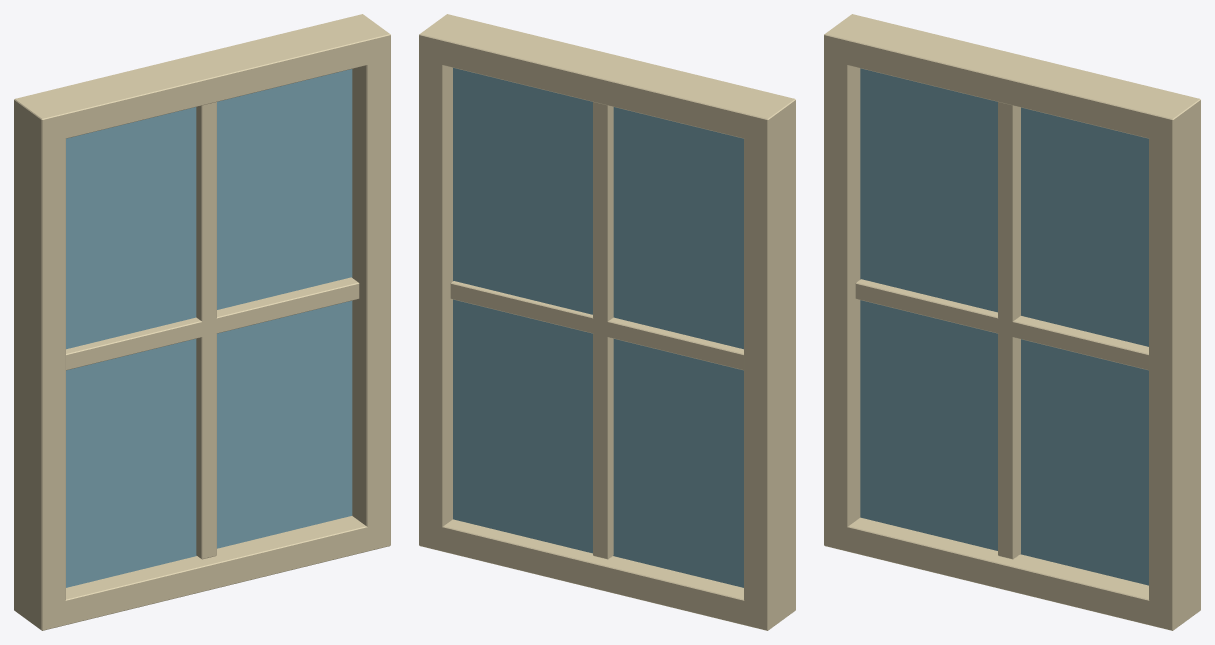
The model's file is b21_window_cross_mullion_1m.glb.
3 views of the same model, side by side, from view 1: azimuth 30°, elevation 25°; view 2: azimuth 150°, elevation 25°; view 3: azimuth 330°, elevation 25° (orthographic).
Visible parts, largest first — view 1: b21_window_cross_mullion_1m; view 2: b21_window_cross_mullion_1m; view 3: b21_window_cross_mullion_1m.
Part boxes in pixels (left/top/right/bottom): b21_window_cross_mullion_1m: left=14, top=14, right=390, bottom=630; b21_window_cross_mullion_1m: left=419, top=14, right=795, bottom=630; b21_window_cross_mullion_1m: left=824, top=14, right=1200, bottom=630.
Bounding box in the file's own units: 1 × 1.4 × 0.14.
